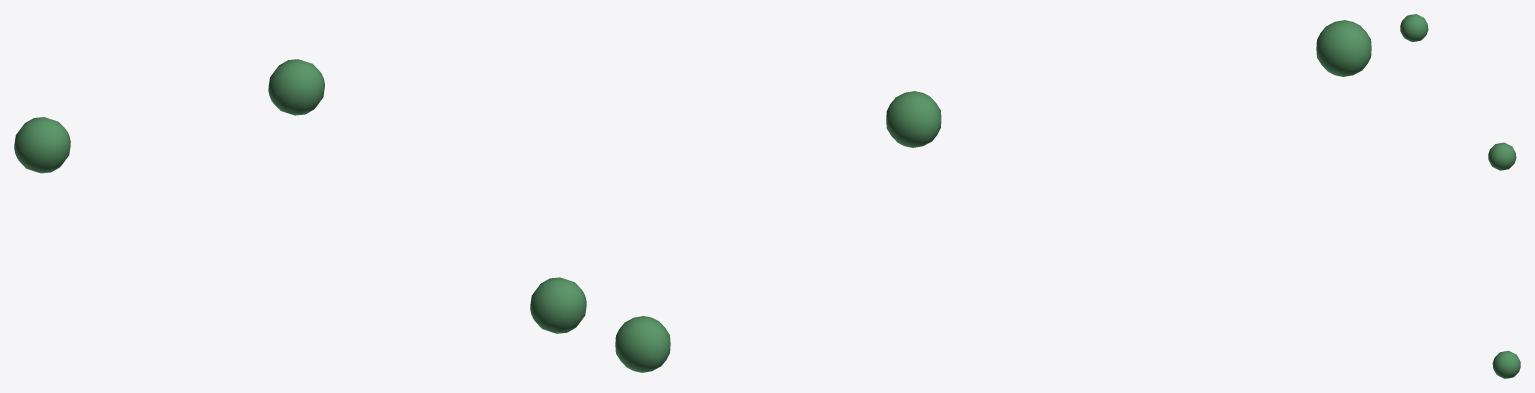
3 renders of one model, left to right at view 1: azimuth 30°, elevation 25°; view 2: azimuth 150°, elevation 25°; view 3: azimuth 270°, elevation 25°, orthographic. The views are drawn at different scales.
Visible parts, largest first — view 1: 右结肠淋巴结; view 2: 右结肠淋巴结; view 3: 右结肠淋巴结.
Part boxes in pixels (<box>): 右结肠淋巴结: <box>14,59,586,333</box>; 右结肠淋巴结: <box>615,20,1371,372</box>; 右结肠淋巴结: <box>1400,14,1520,378</box>.
Bounding box in the file's own units: 0.051 × 0.0317 × 0.0162.
